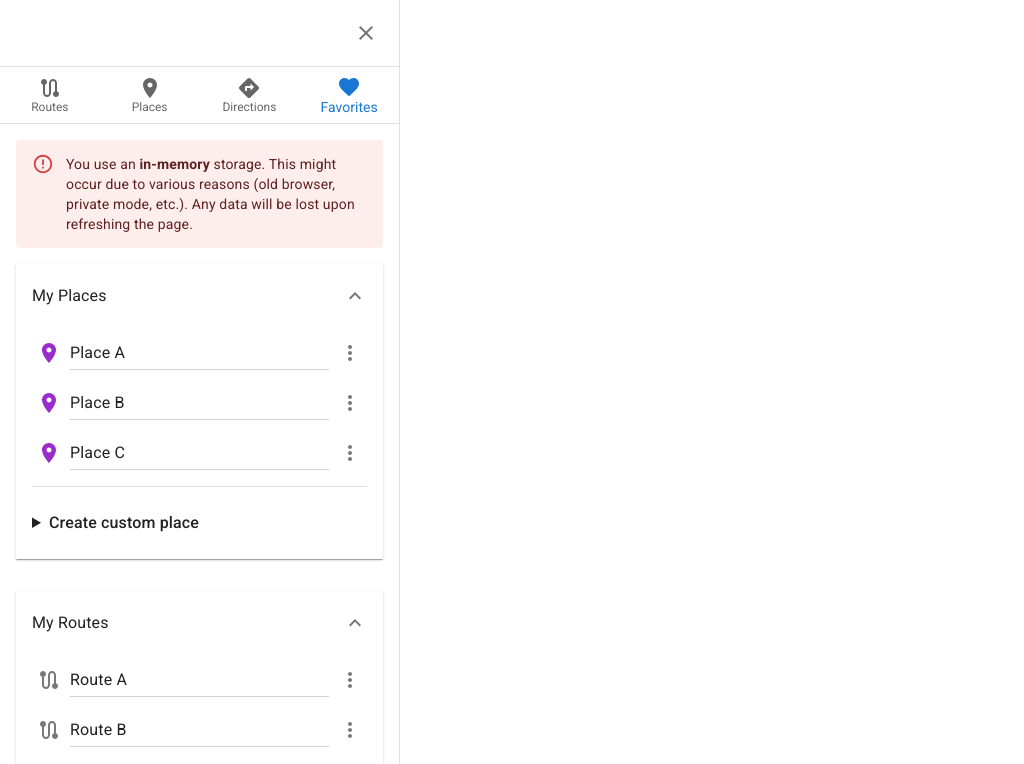
<PanelDrawer /> › favorites › places › should append a place to the current direction sequence
Click the button named "Menu" in the row of "Place B" at [350, 403], box [333,386,367,420]
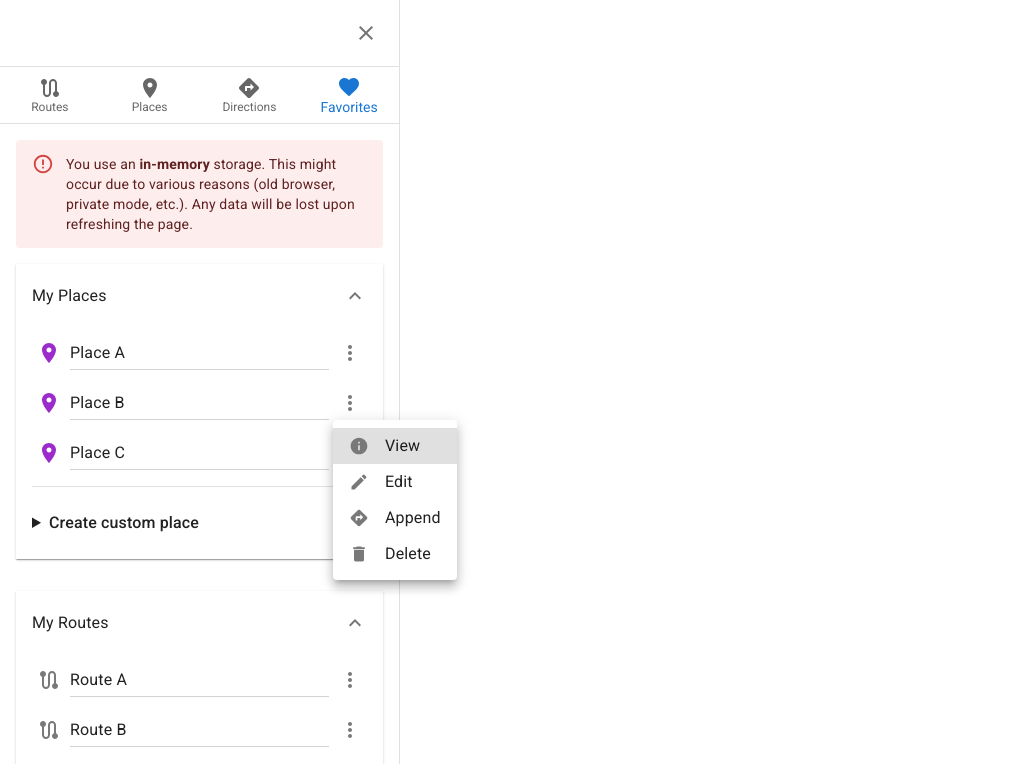
Click the menu item "Append" at [395, 518], box [349,508,441,528]
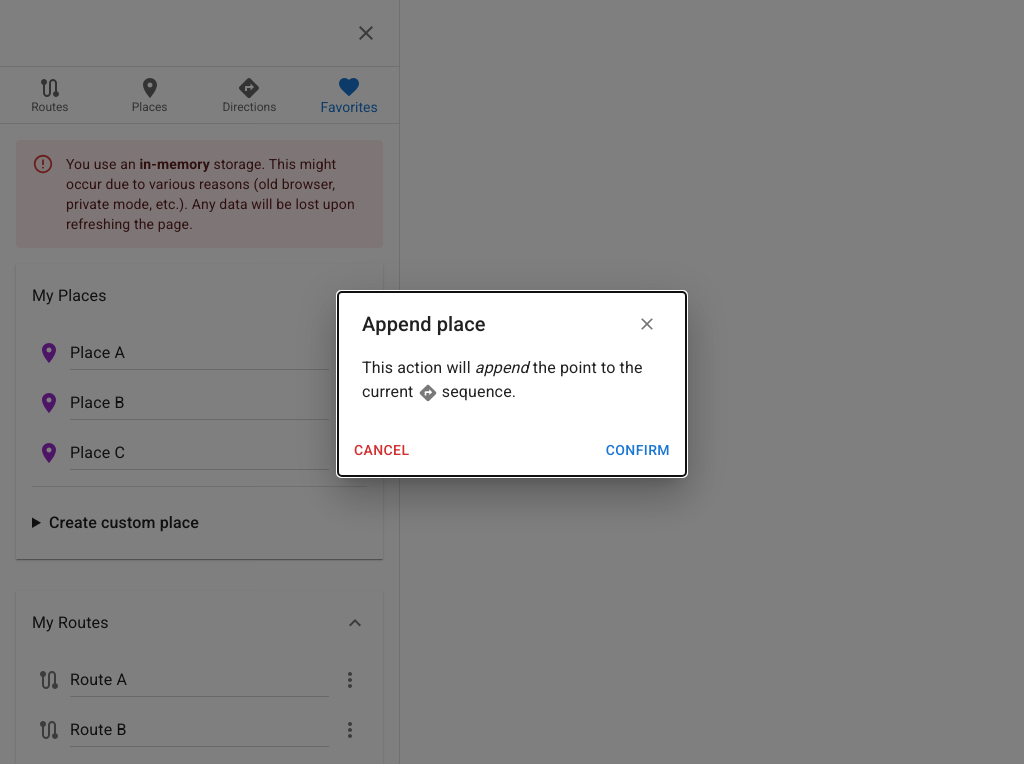
Click the button "Confirm" at [638, 450], box [598,432,678,468]
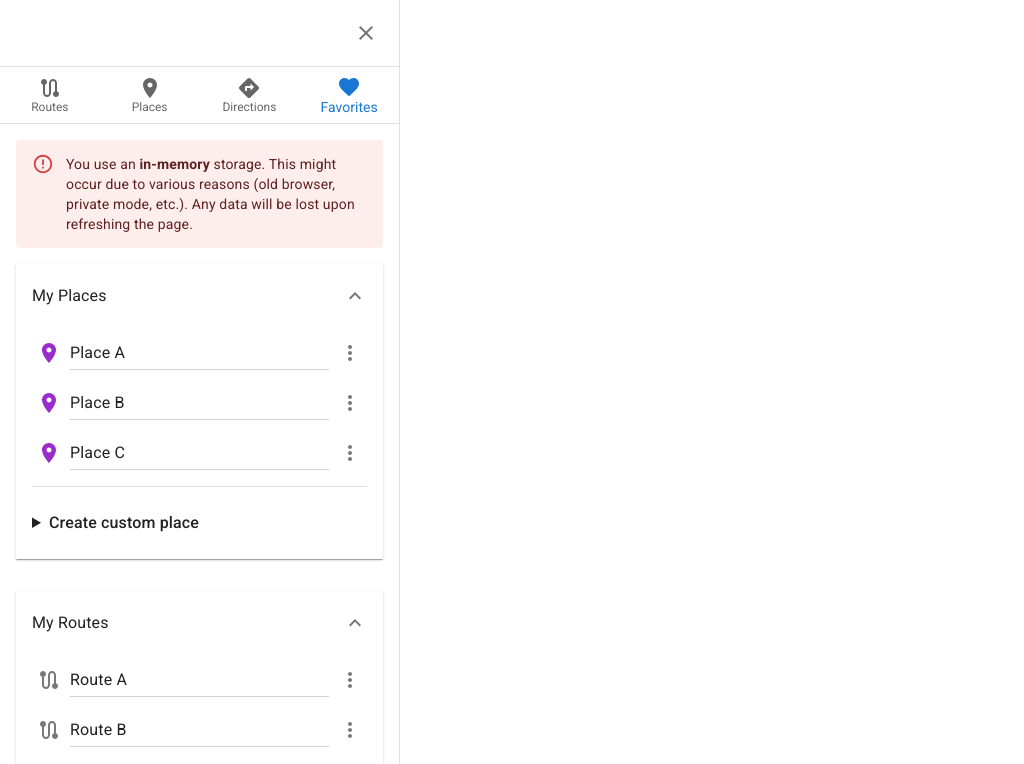
Check: the dialog is gone
Click the button with aria-label "Search directions" at [249, 95], box [200,67,299,123]
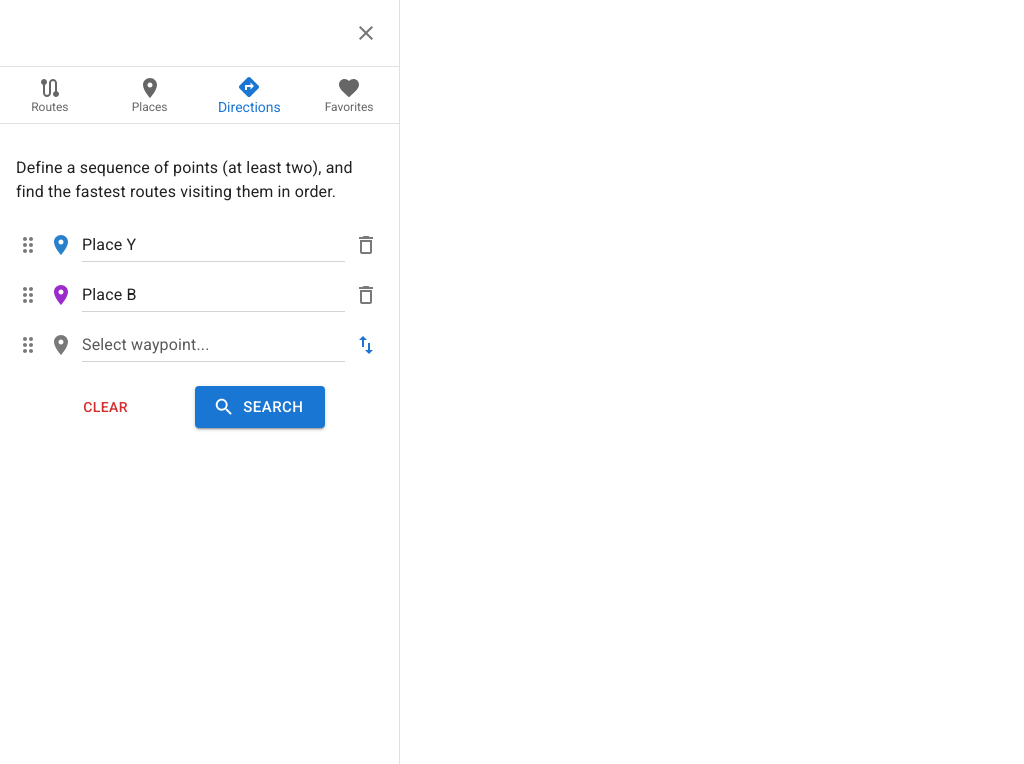
Check: the text "Place B" is shown, box [82,282,136,306]
Check: the text "Place Y" is shown, box [82,232,136,256]
